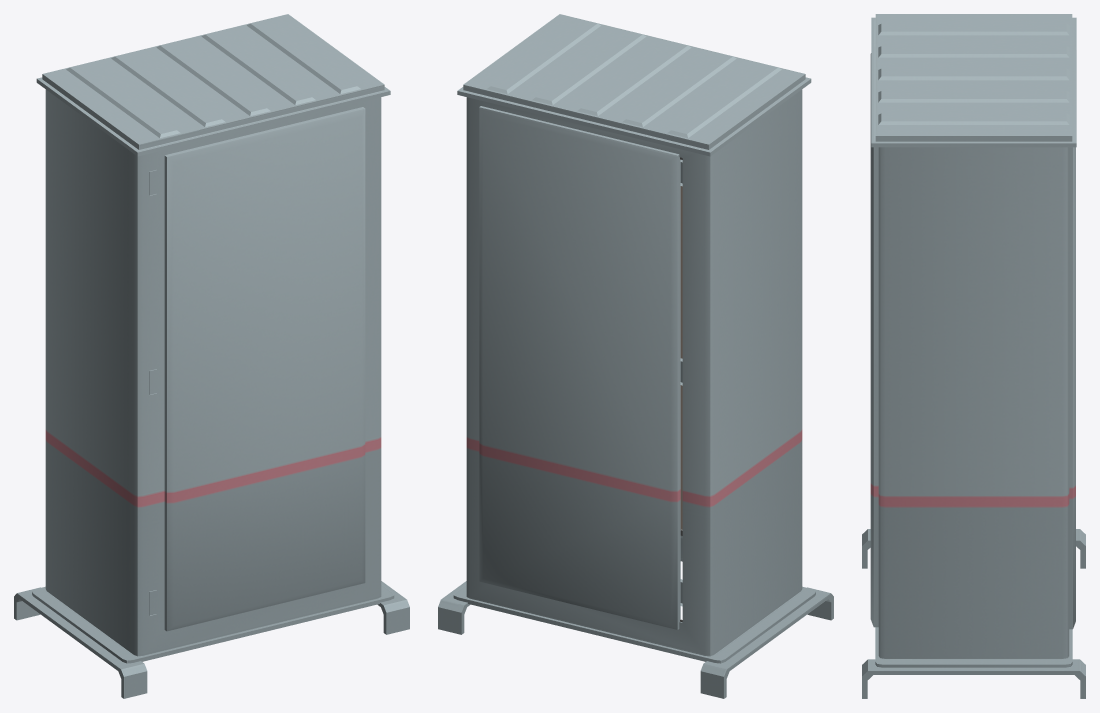
File: e_cupboard001.fbx
3 renders of one model, left to right at view 1: azimuth 30°, elevation 25°; view 2: azimuth 150°, elevation 25°; view 3: azimuth 270°, elevation 25°, orthographic.
Visible parts, largest first — view 1: e_cupboard001; view 2: e_cupboard001; view 3: e_cupboard001.
Boxes of the visible parts, bbox=[...] form: e_cupboard001: bbox=[14, 14, 409, 698]; e_cupboard001: bbox=[438, 14, 833, 698]; e_cupboard001: bbox=[862, 14, 1085, 698].
Size of the model in its own units: 998 by 1823 by 664.
